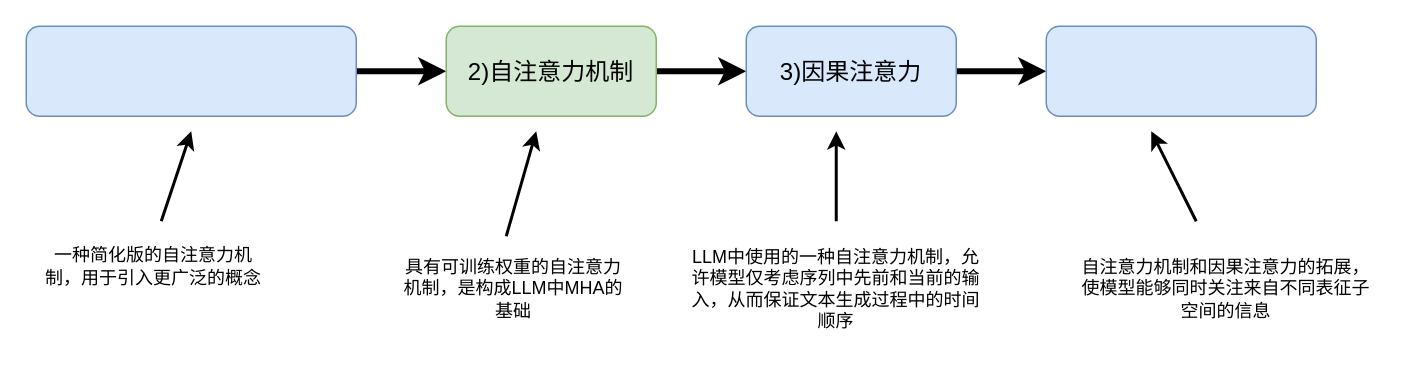
Image size: 1403x383. Some labels were removed from this diagram. Here are the shapes that lost their labels. From the top down, the centre of each, then its label:
At (x=190, y=70): "1)简单的自注意力机制".
At (x=1180, y=70): "4)多头自注意力机制".
